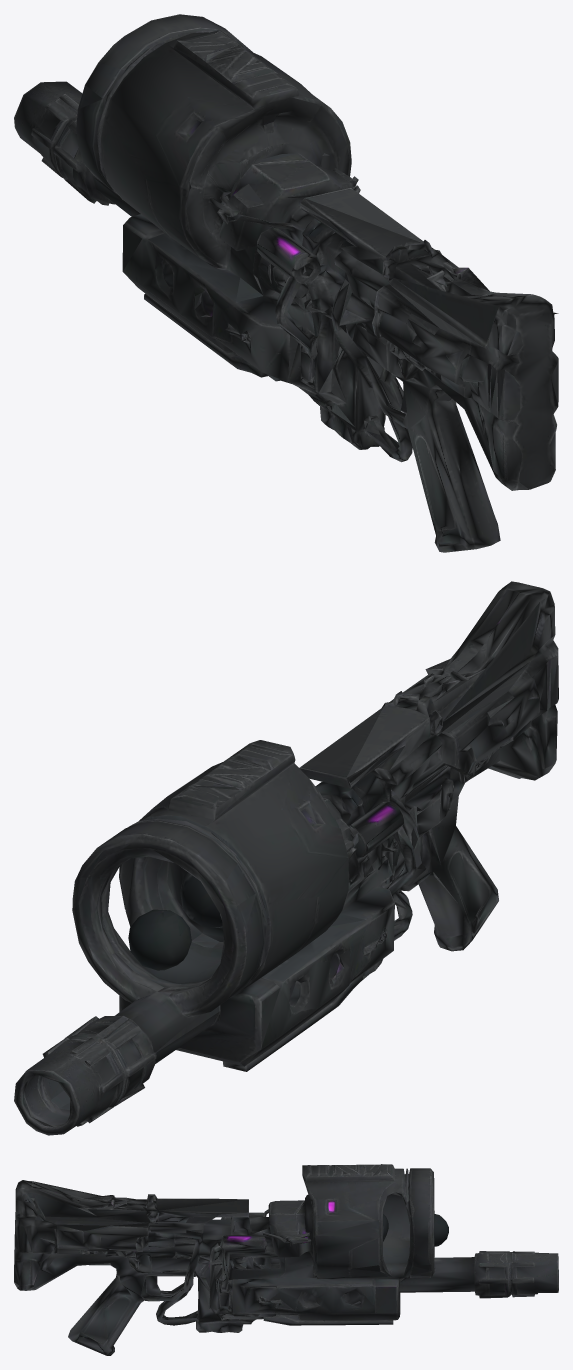
Rendered from ww_singularity.glb.
The picture shows the model from 3 angles, top to bottom: view 1: azimuth 30°, elevation 25°; view 2: azimuth 150°, elevation 25°; view 3: azimuth 270°, elevation 25°; orthographic projection. The views are drawn at different scales.
Parts seen in each view (by area): view 1: ww_singularity; view 2: ww_singularity; view 3: ww_singularity.
Boxes of the visible parts, x1,y1,x2,y2 form: ww_singularity: [14, 14, 558, 552]; ww_singularity: [14, 581, 558, 1135]; ww_singularity: [14, 1164, 558, 1355].
Size of the model in its own units: 0.1967 by 0.3565 by 0.95.
Materials: 1 (1 with a texture image).
